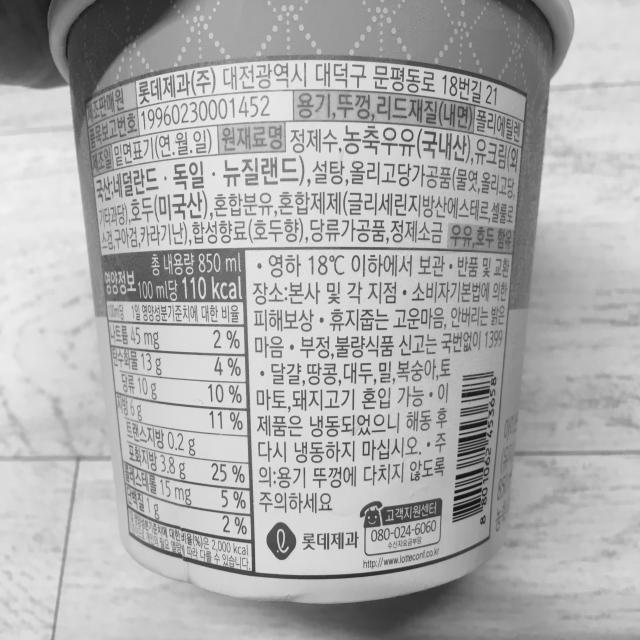Nutrition Label: (100, 250, 256, 576)
